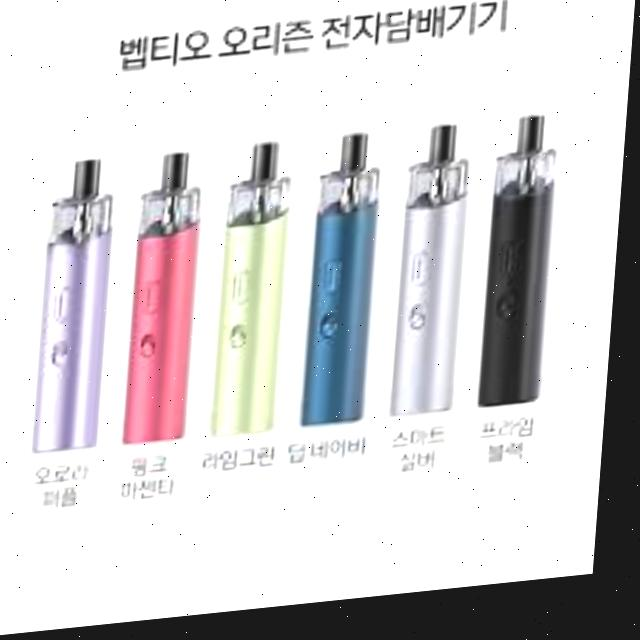vape: (396, 130, 477, 429), (39, 158, 120, 456), (129, 152, 210, 448), (218, 143, 297, 444), (483, 120, 562, 418), (308, 140, 387, 436)
